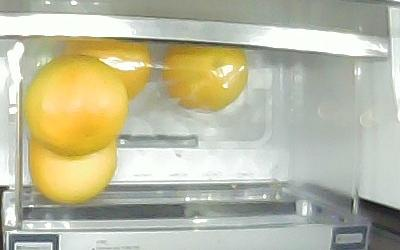grapefruit: (26, 54, 128, 156), (28, 137, 117, 204)
grapefruit_vinyl: (162, 44, 248, 112), (64, 39, 151, 98)
